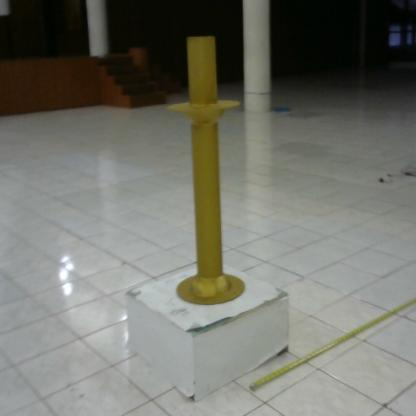pole: (169, 28, 258, 317)
